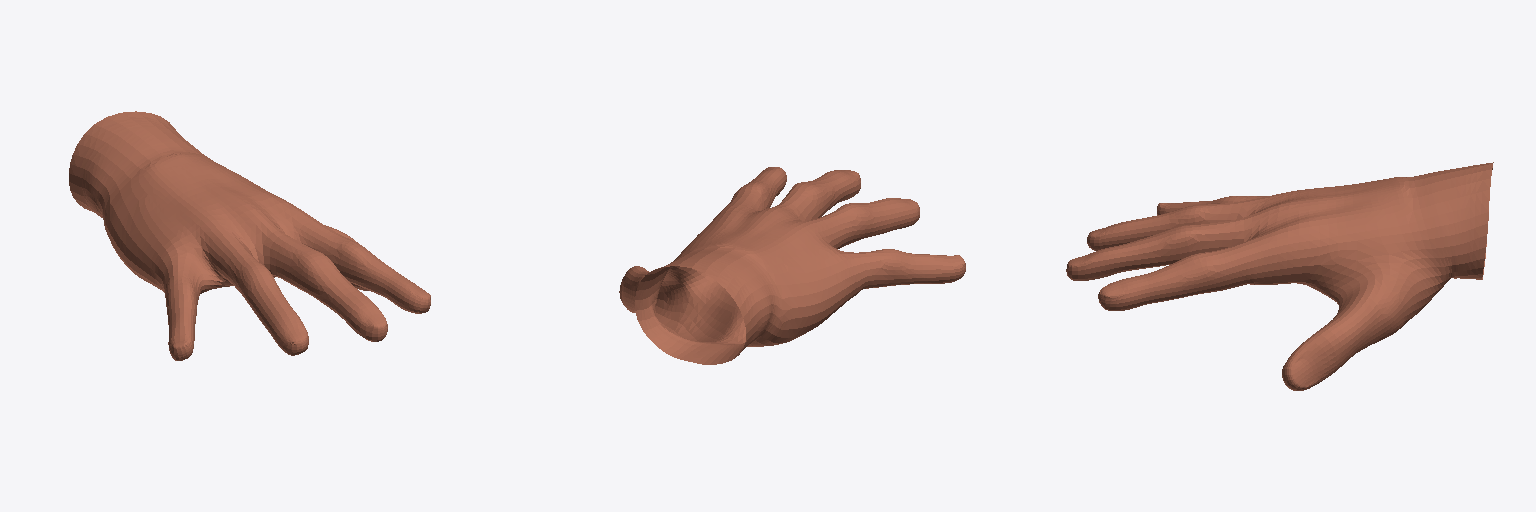
The model's file is hand.obj.
The picture shows the model from 3 angles: view 1: azimuth 30°, elevation 25°; view 2: azimuth 150°, elevation 25°; view 3: azimuth 270°, elevation 25°; orthographic projection.
Visible parts, largest first — view 1: Mesh; view 2: Mesh; view 3: Mesh.
Part boxes in pixels (x1,y1,x2,y2): Mesh: (69, 111, 430, 360); Mesh: (619, 167, 965, 364); Mesh: (1066, 162, 1493, 390).
Size of the model in its own units: 0.5793 by 0.2873 by 0.7645.